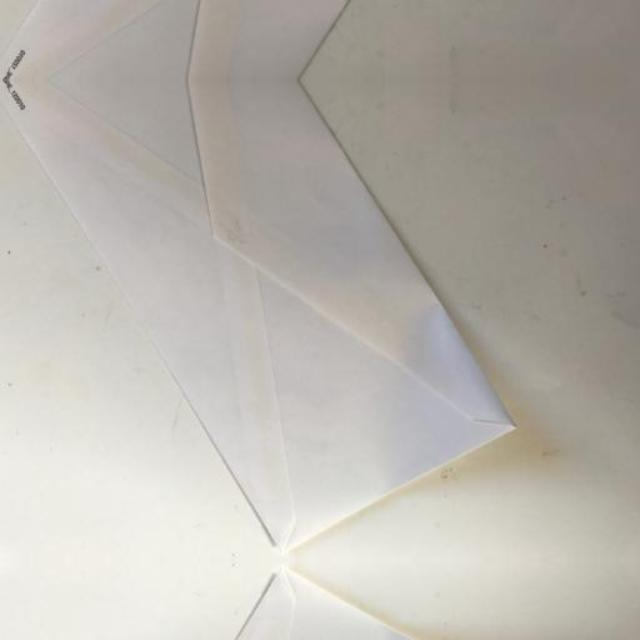paper: (0, 80, 520, 548), (0, 0, 520, 80), (0, 571, 520, 640)
